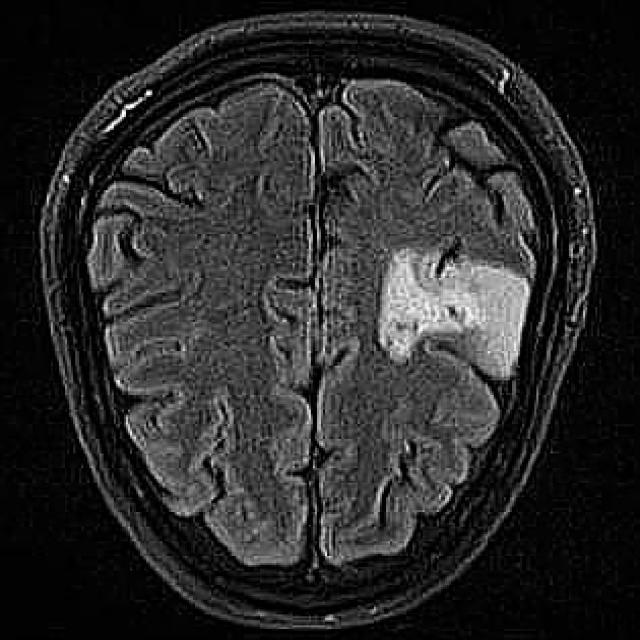Tumor-Cell: (373, 224, 562, 408)
